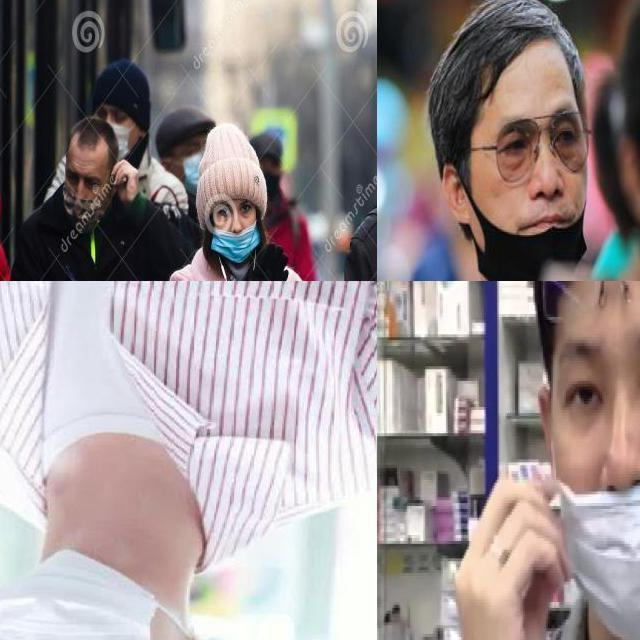hairnet: (544, 418, 640, 640), (462, 158, 594, 278), (209, 223, 262, 265)
